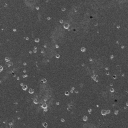corrosion: (100, 108, 111, 117), (90, 73, 99, 83), (40, 121, 51, 128), (40, 103, 49, 111), (63, 23, 71, 30), (28, 87, 35, 95), (82, 114, 88, 123), (41, 77, 50, 83), (4, 56, 11, 63), (32, 46, 38, 54), (79, 46, 86, 52), (54, 53, 61, 59), (21, 84, 27, 91), (21, 61, 28, 67), (109, 53, 115, 60), (54, 100, 61, 106), (87, 108, 94, 114), (33, 37, 39, 43), (109, 87, 115, 93), (33, 99, 39, 105), (11, 27, 18, 32), (114, 109, 119, 116), (64, 91, 70, 96), (22, 74, 28, 79), (54, 44, 60, 49), (45, 16, 51, 21), (33, 5, 39, 10), (60, 7, 66, 12), (112, 74, 117, 79), (60, 117, 65, 122), (1, 65, 4, 73), (115, 25, 121, 29), (105, 66, 109, 72), (88, 58, 93, 62)
